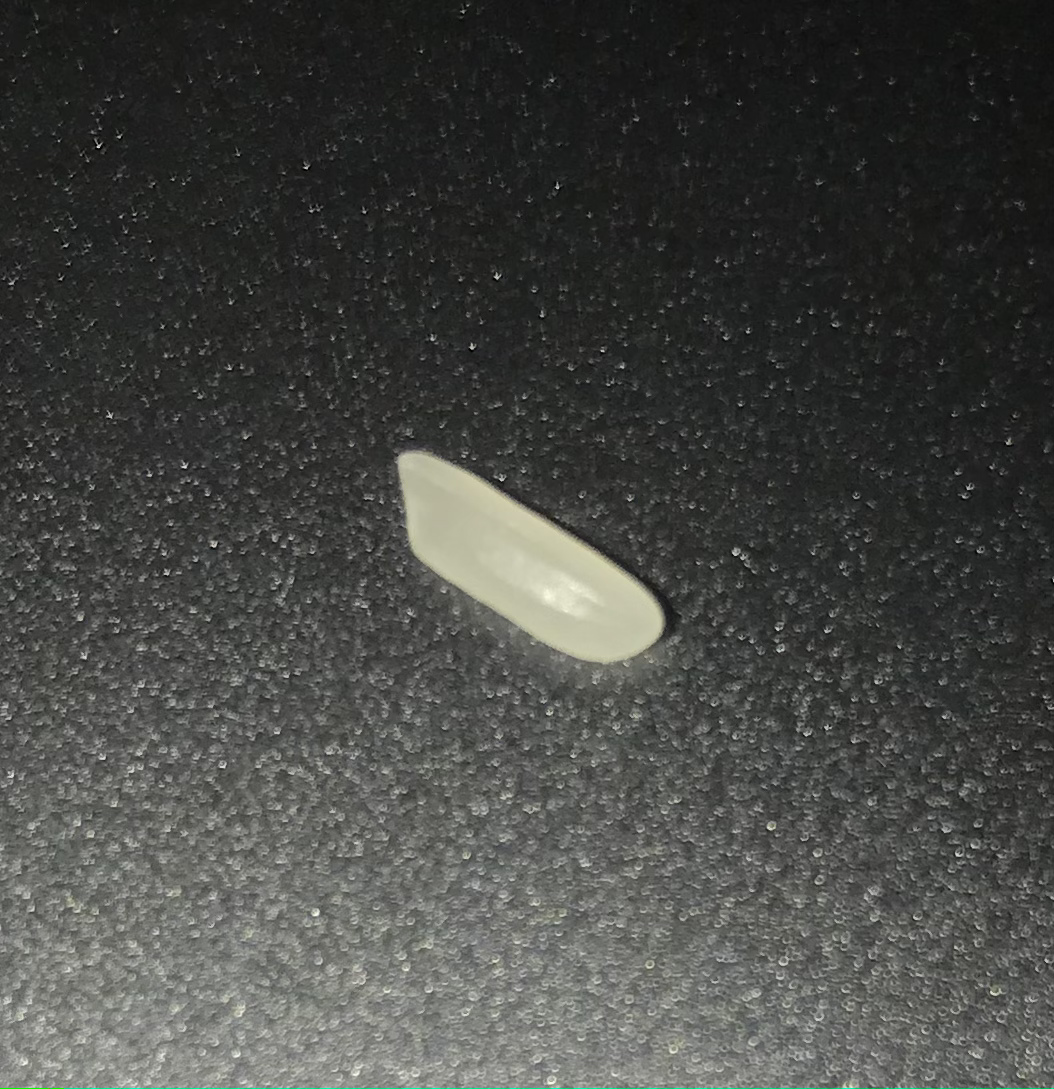Gao Thom My: (361, 420, 671, 691)
